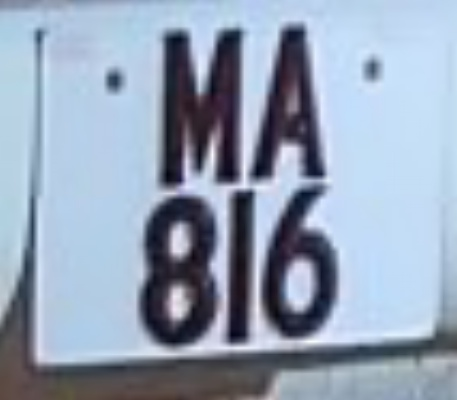1: (214, 191, 264, 350)
6: (255, 185, 352, 344)
8: (123, 186, 227, 355)
A: (246, 8, 344, 191)
M: (149, 7, 253, 193)
